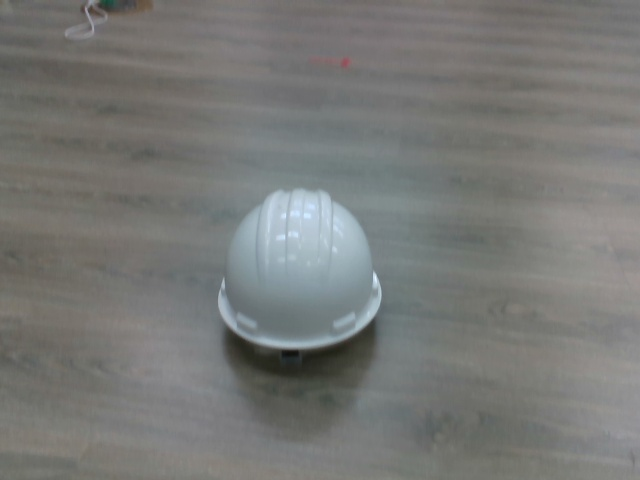helmet: (214, 182, 389, 368)
